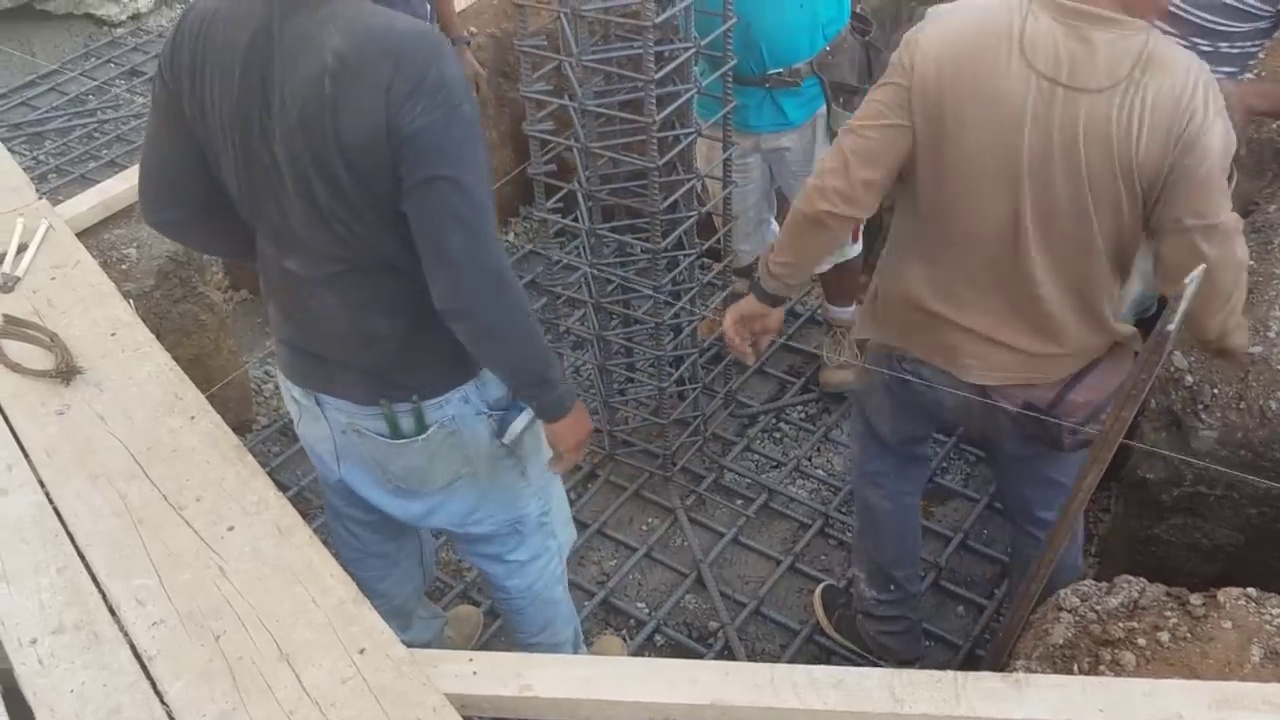person: (717, 0, 1279, 675), (153, 0, 588, 653), (683, 0, 866, 389)
